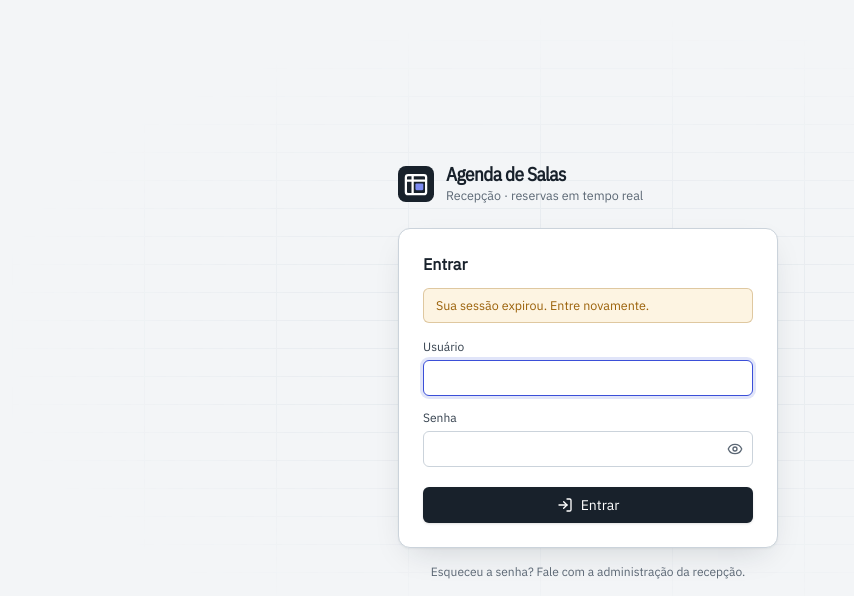
Test case: para onde ir depois de entrar (R40) › sessão vencida: a mesma pessoa volta ao mesmo dia
Expected: the button "Entrar" is shown, [423, 487, 753, 523]
Type "ana" into the field labelled "Usuário" at (588, 378), box [423, 360, 753, 396]
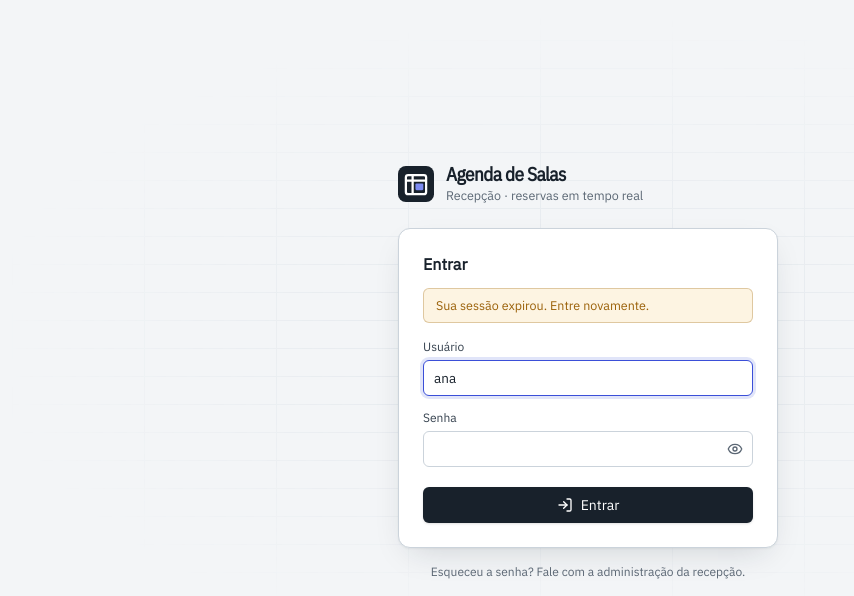
Type "segredo" into the password field labelled "Senha" at (588, 449), box [423, 431, 753, 467]
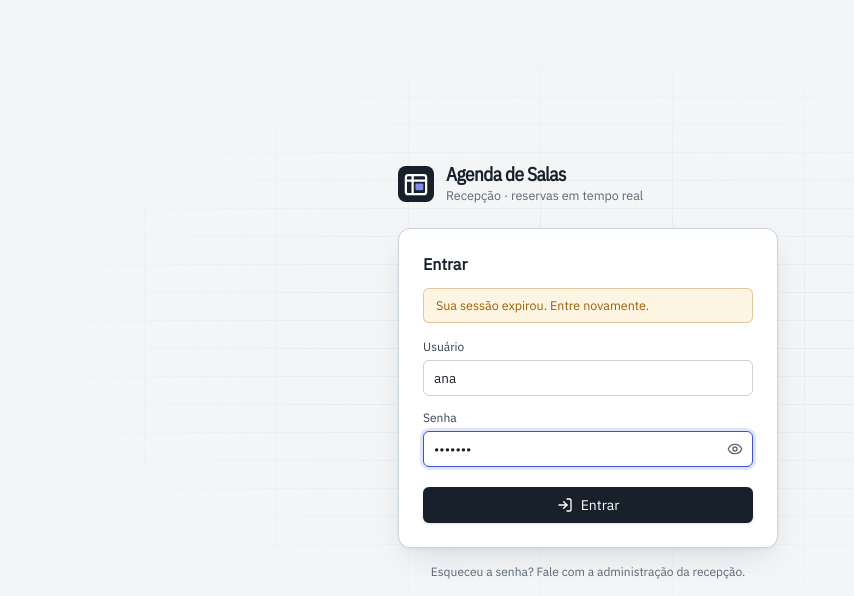
Click the button "Entrar" at (588, 505), box [423, 487, 753, 523]
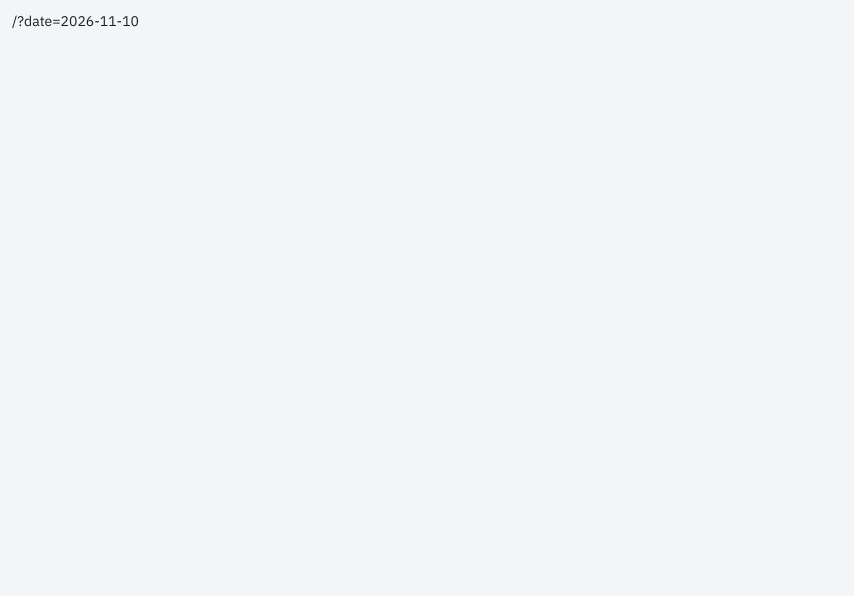
Result: the text with test id "where" reads "/?date=2026-11-10" at [12, 12, 139, 30]
